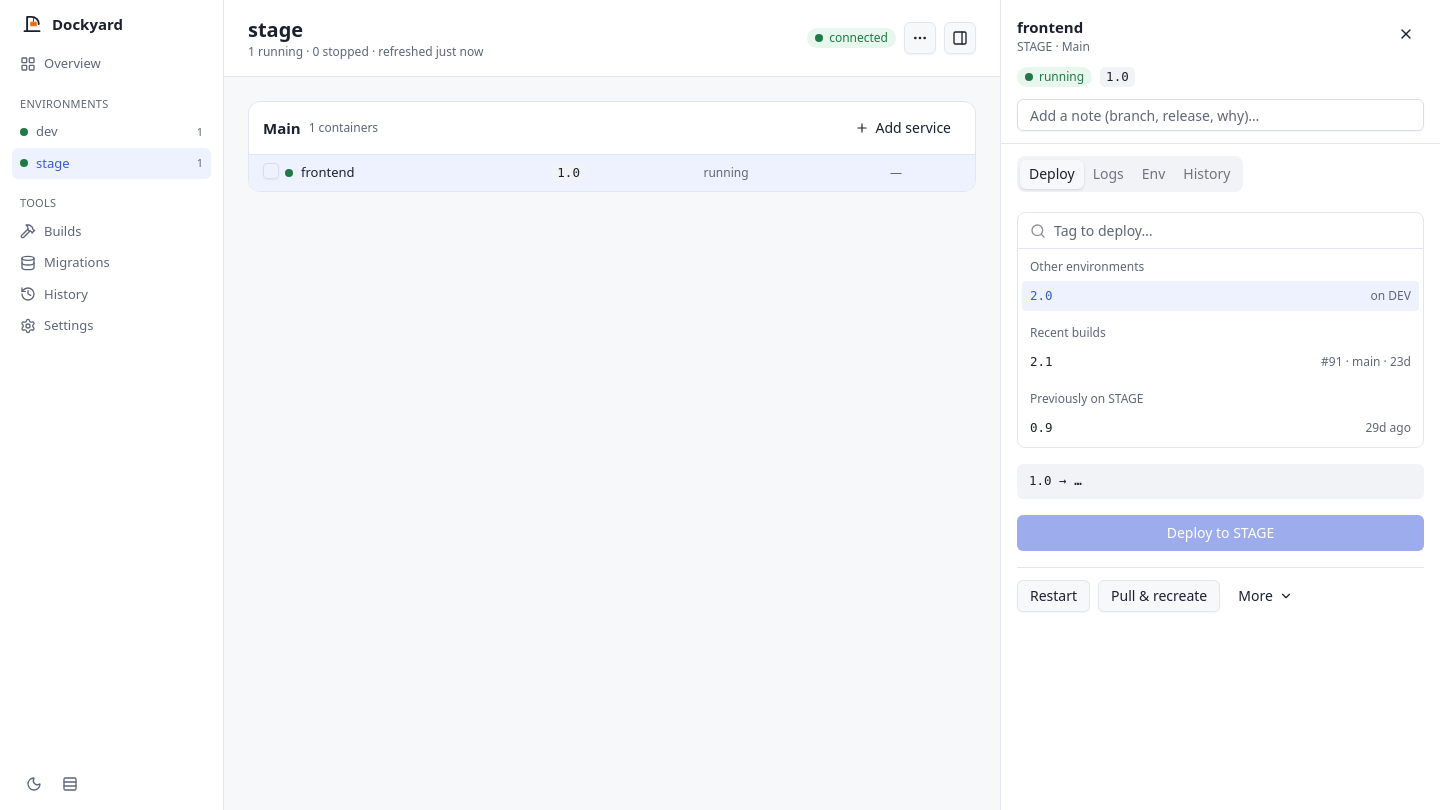
Scenario: DeployTab › accepts a typed tag with Enter and rejects invalid ones
This screenshot has width=1440, height=810.
In the dropdown labelled "Tag to deploy": point(1232, 231) 1054,211 -> 1411,251, type "hotfix-7"
Then press Enter
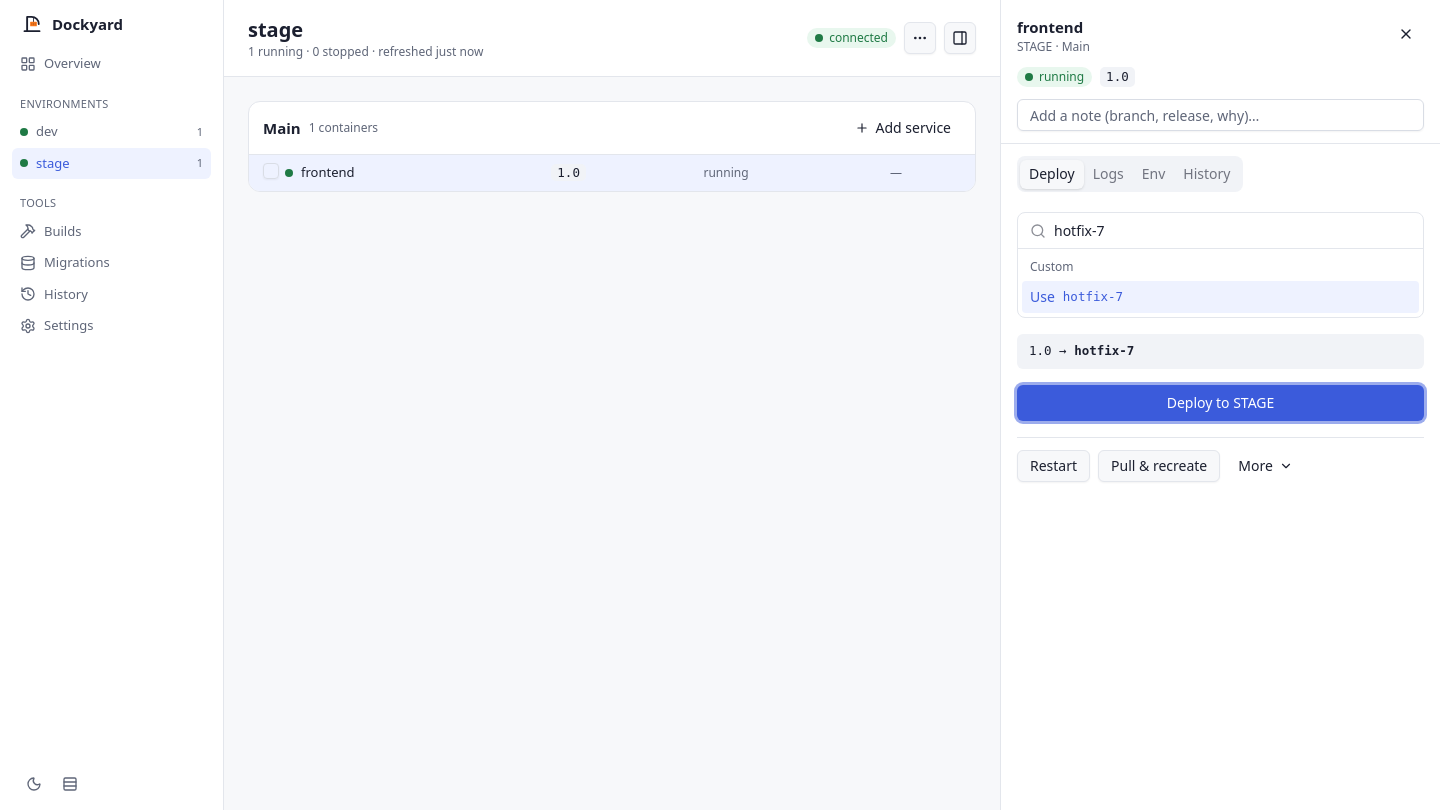
Check: the element with test id "deploy-preview" reads "1.0 → hotfix-7", box 1017,334 -> 1424,369
Replace the text in the dropdown named "Tag to deploy" with "bad tag": point(1232, 231) 1054,211 -> 1411,251
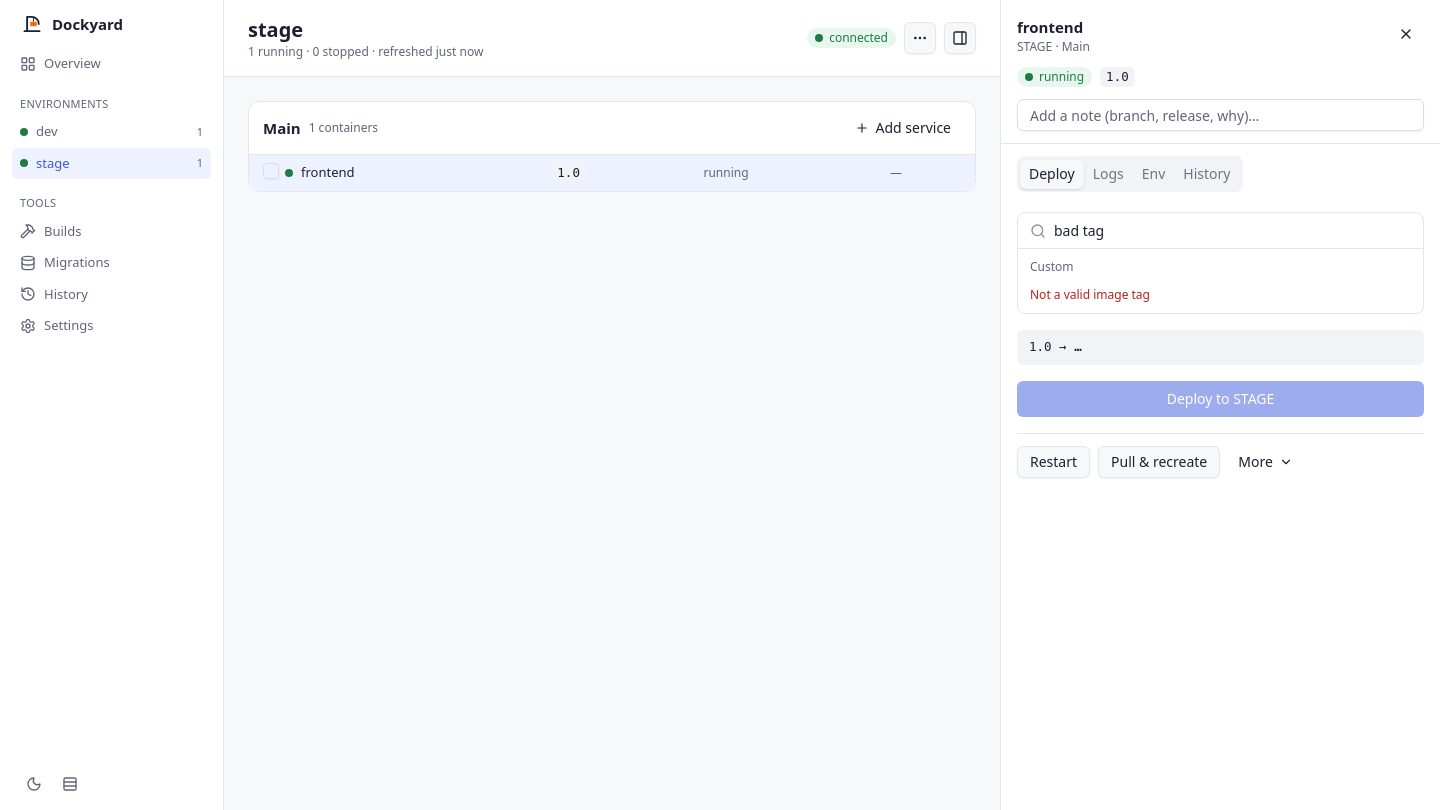
Check: the text "Not a valid image tag" is shown, box 1030,286 -> 1150,303
